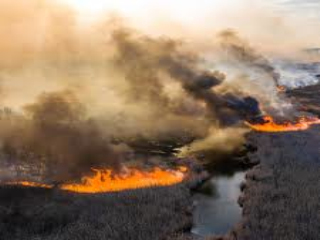fire: (10, 152, 184, 201), (241, 111, 316, 134)
smoke: (121, 28, 306, 113), (9, 91, 109, 165)
